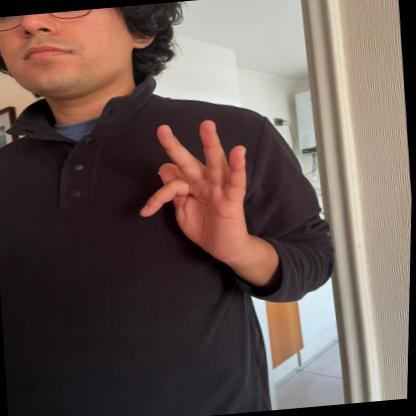F: (131, 110, 262, 274)
